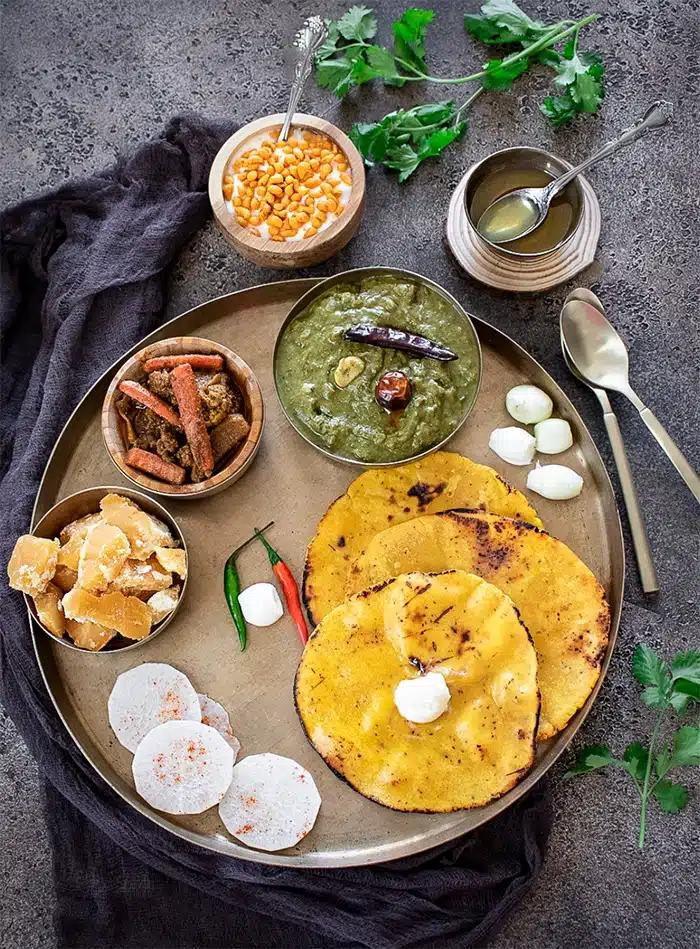saag: (287, 282, 463, 455)
